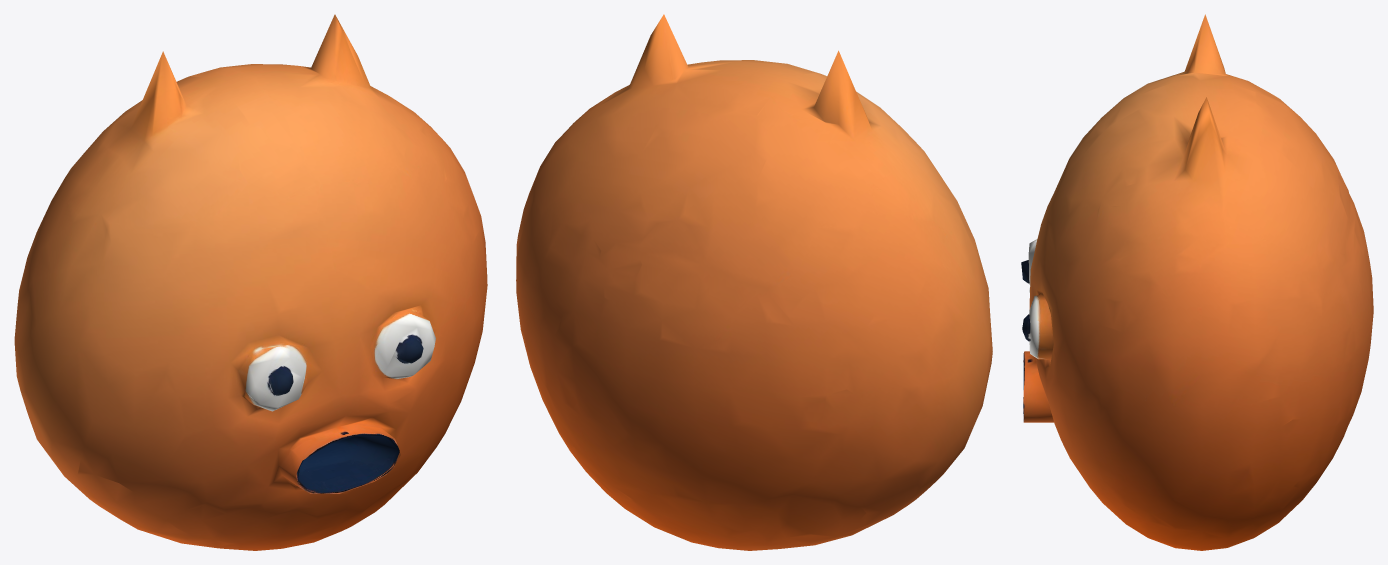
File: nubbin_3d.glb
3 renders of one model, left to right at view 1: azimuth 30°, elevation 25°; view 2: azimuth 150°, elevation 25°; view 3: azimuth 270°, elevation 25°, orthographic. The views are drawn at different scales.
Visible parts, largest first — view 1: tripo_node_a424d04e-8fdd-4ef5-8404-72d45961974e; view 2: tripo_node_a424d04e-8fdd-4ef5-8404-72d45961974e; view 3: tripo_node_a424d04e-8fdd-4ef5-8404-72d45961974e.
Boxes of the visible parts, bbox=[...] form: tripo_node_a424d04e-8fdd-4ef5-8404-72d45961974e: bbox=[14, 14, 487, 550]; tripo_node_a424d04e-8fdd-4ef5-8404-72d45961974e: bbox=[516, 14, 992, 550]; tripo_node_a424d04e-8fdd-4ef5-8404-72d45961974e: bbox=[1021, 14, 1373, 550].
Size of the model in its own units: 0.8956 by 1 by 0.6782.
1 material, 1 textured.
